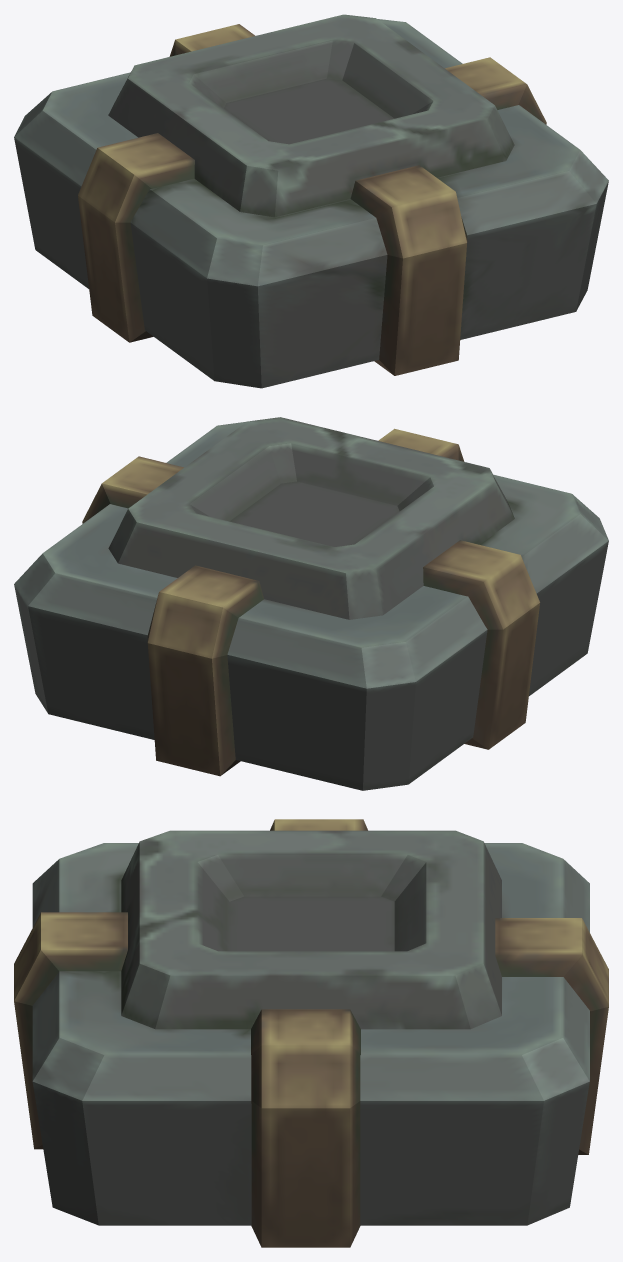
File: yw_shanlin_parapet_002.FBX
3 views of the same model, one above another, from view 1: azimuth 30°, elevation 25°; view 2: azimuth 150°, elevation 25°; view 3: azimuth 270°, elevation 25° (orthographic). The views are drawn at different scales.
Parts seen in each view (by area): view 1: yw_shanlin_parapet_002; view 2: yw_shanlin_parapet_002; view 3: yw_shanlin_parapet_002.
Boxes of the visible parts, x1,y1,x2,y2 form: yw_shanlin_parapet_002: (14,14,608,388); yw_shanlin_parapet_002: (14,417,608,790); yw_shanlin_parapet_002: (14,819,608,1247).
Bounding box in the file's own units: 155 × 156 × 66.29.
